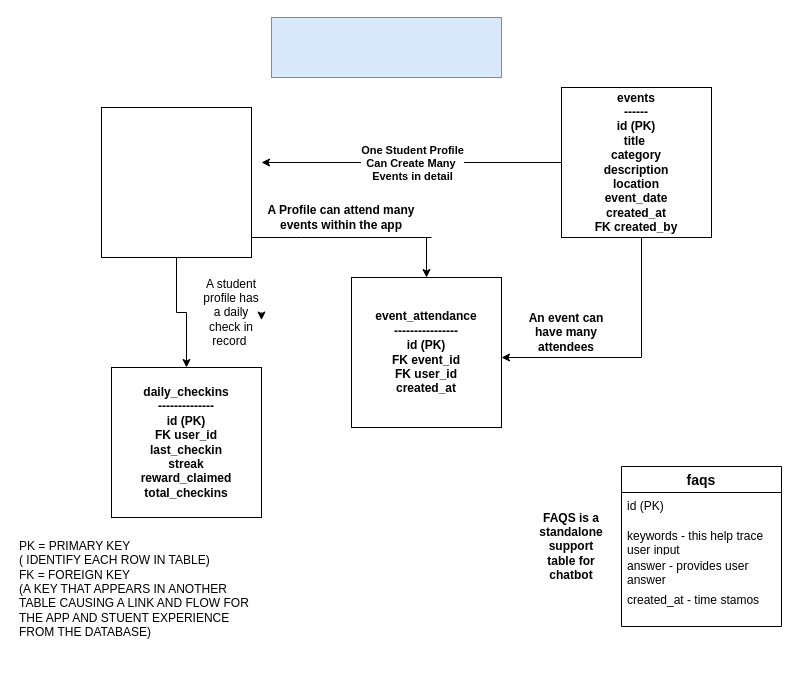
Image size: 799x674. Some labels were removed from this diagram. The centre of each missing label's shape, as x and y in pixels:
profiles -------- id (PK) created_at email display_name profile_picture: the point at 176,182
SuperBuzz Database ERD Diagram: the point at 386,47
